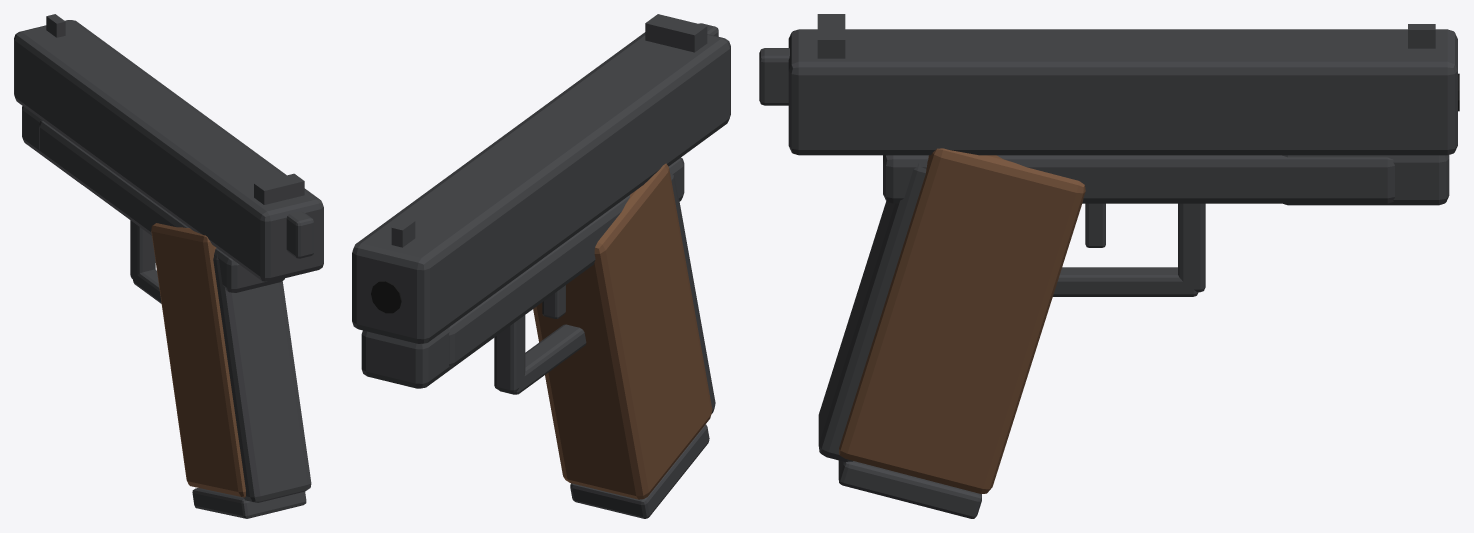
The model's file is npc_pistol.glb.
3 views of the same model, side by side, from view 1: azimuth 30°, elevation 25°; view 2: azimuth 150°, elevation 25°; view 3: azimuth 270°, elevation 25° (orthographic). The views are drawn at different scales.
Visible parts, largest first — view 1: NpcPistol; view 2: NpcPistol; view 3: NpcPistol.
Boxes of the visible parts, left/top/right/bottom form: NpcPistol: left=14, top=14, right=323, bottom=518; NpcPistol: left=352, top=14, right=730, bottom=518; NpcPistol: left=759, top=14, right=1459, bottom=518.
Bounding box in the file's own units: 0.031 × 0.1522 × 0.204.
